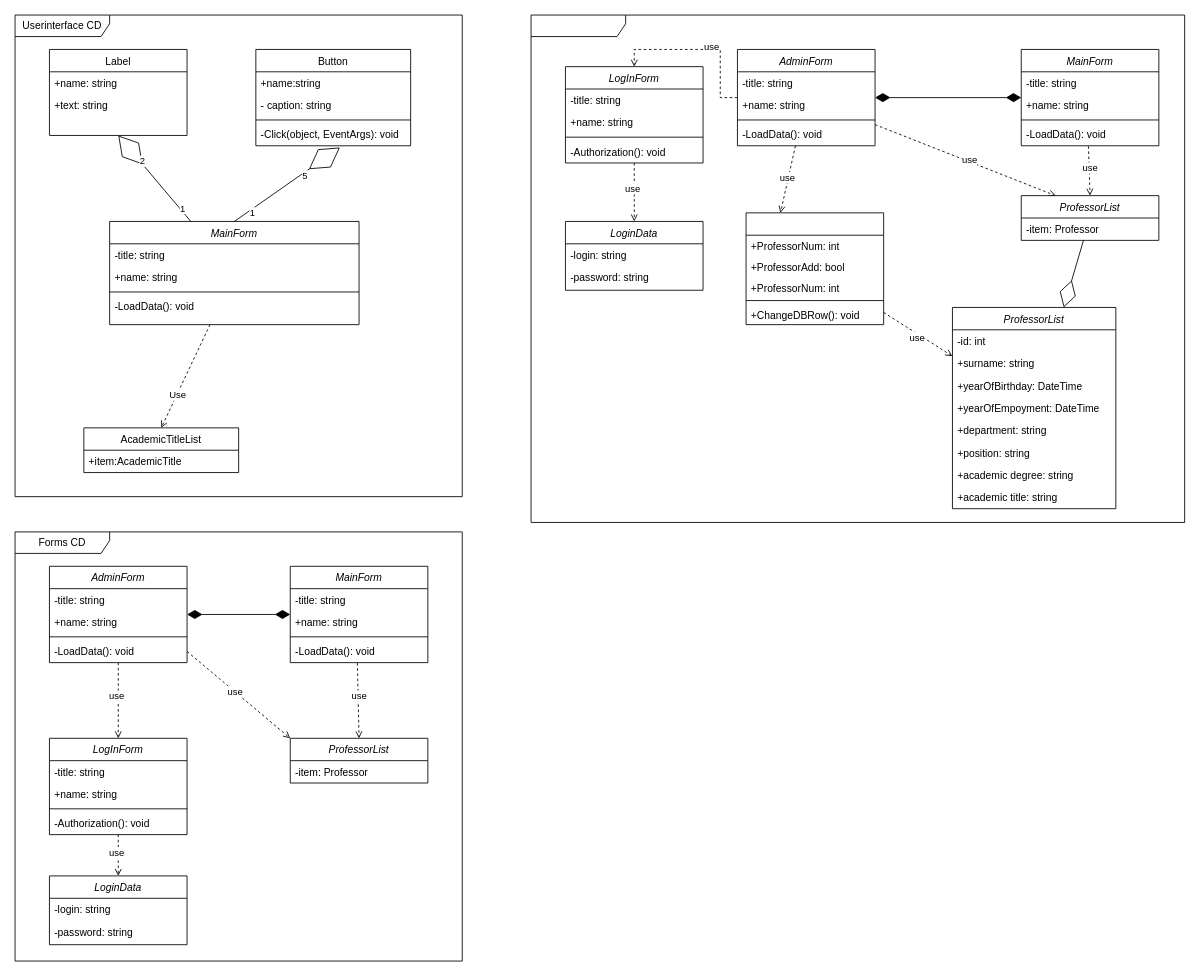
This 1200x976 diagram has some shape labels left out. Each missing label, with the box of its shape:
EditDB: (745, 212, 884, 325)
Main CD: (530, 14, 1185, 522)
